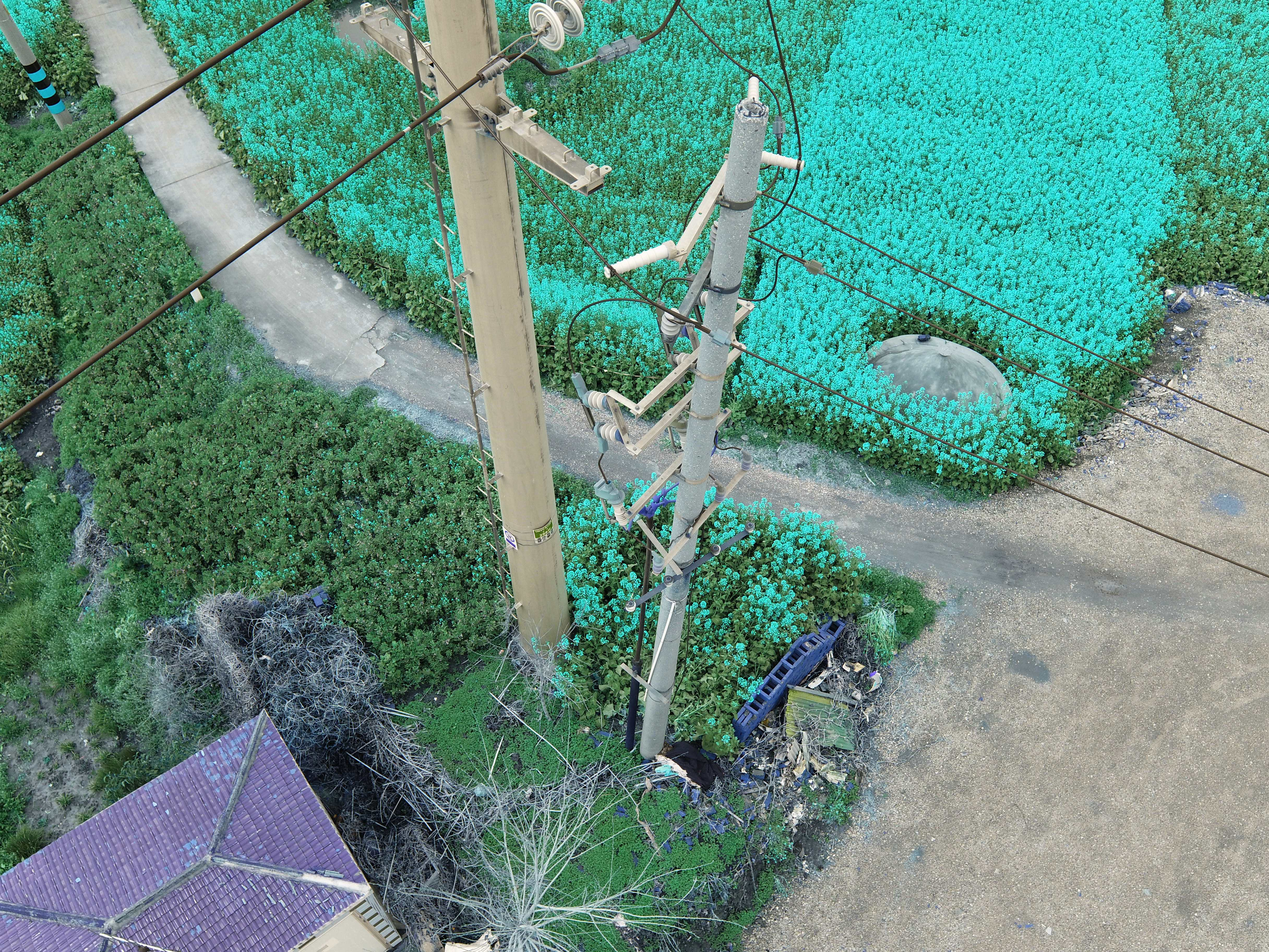severe_soiling_no_discharge_whole: (707, 543, 723, 557), (661, 573, 674, 589), (742, 521, 755, 535), (624, 599, 636, 614)
